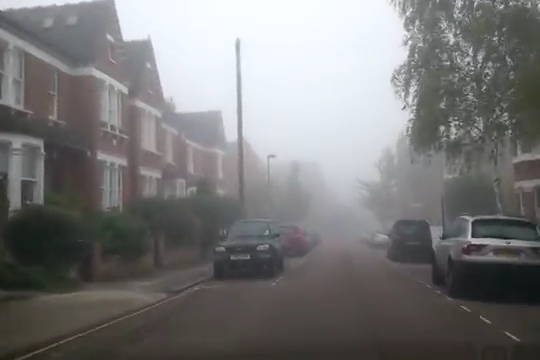car: (432, 213, 540, 304), (212, 218, 285, 280), (385, 216, 436, 264), (270, 223, 307, 259), (370, 229, 395, 250)
